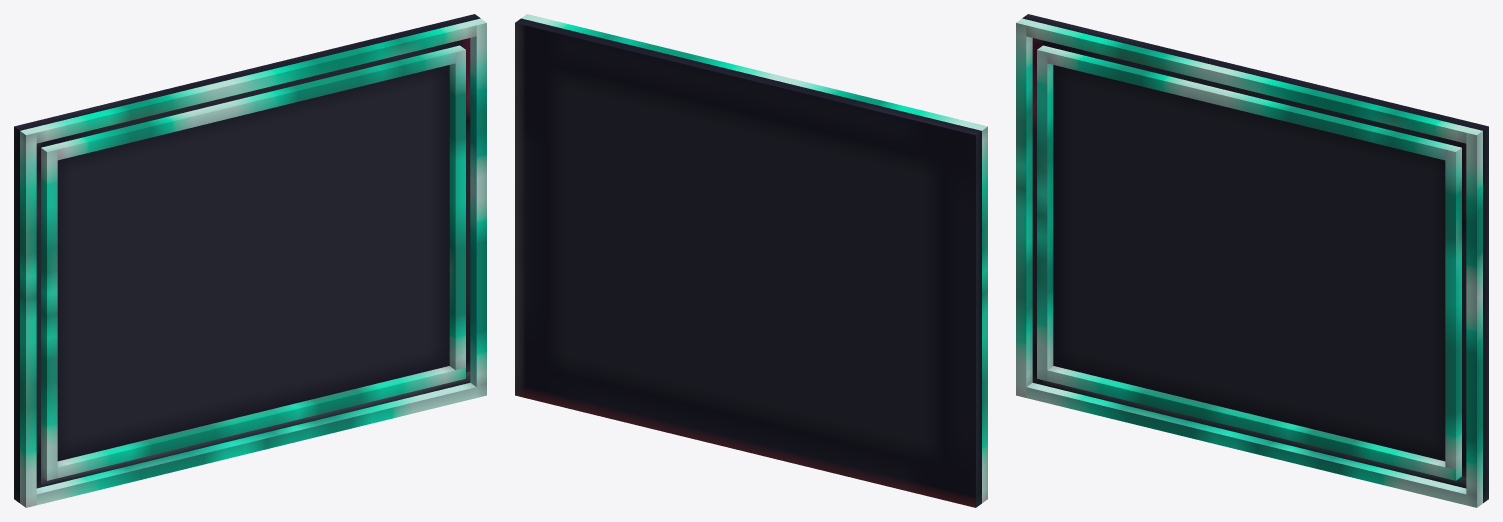
Rendered from BillboardModule_Backplate_E_00.fbx.
The picture shows the model from 3 angles, left to right: view 1: azimuth 30°, elevation 25°; view 2: azimuth 150°, elevation 25°; view 3: azimuth 330°, elevation 25°; orthographic projection.
Visible parts, largest first — view 1: BillboardModule_Backplate_E_00; view 2: BillboardModule_Backplate_E_00; view 3: BillboardModule_Backplate_E_00.
Boxes of the visible parts, x1,y1,x2,y2 form: BillboardModule_Backplate_E_00: (14, 14, 486, 507); BillboardModule_Backplate_E_00: (515, 14, 987, 507); BillboardModule_Backplate_E_00: (1016, 14, 1488, 507).
Bounding box in the file's own units: 220 × 170 × 10.
